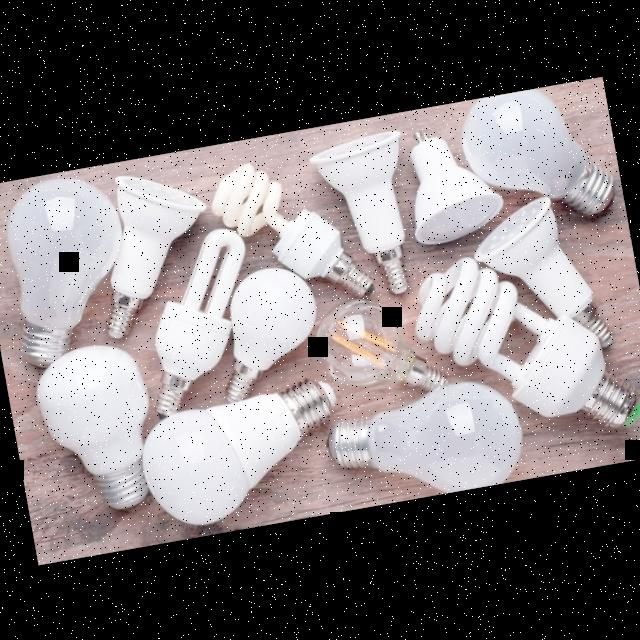light_bulb: (134, 372, 356, 530), (27, 334, 163, 517), (306, 126, 432, 306), (399, 119, 507, 244)
